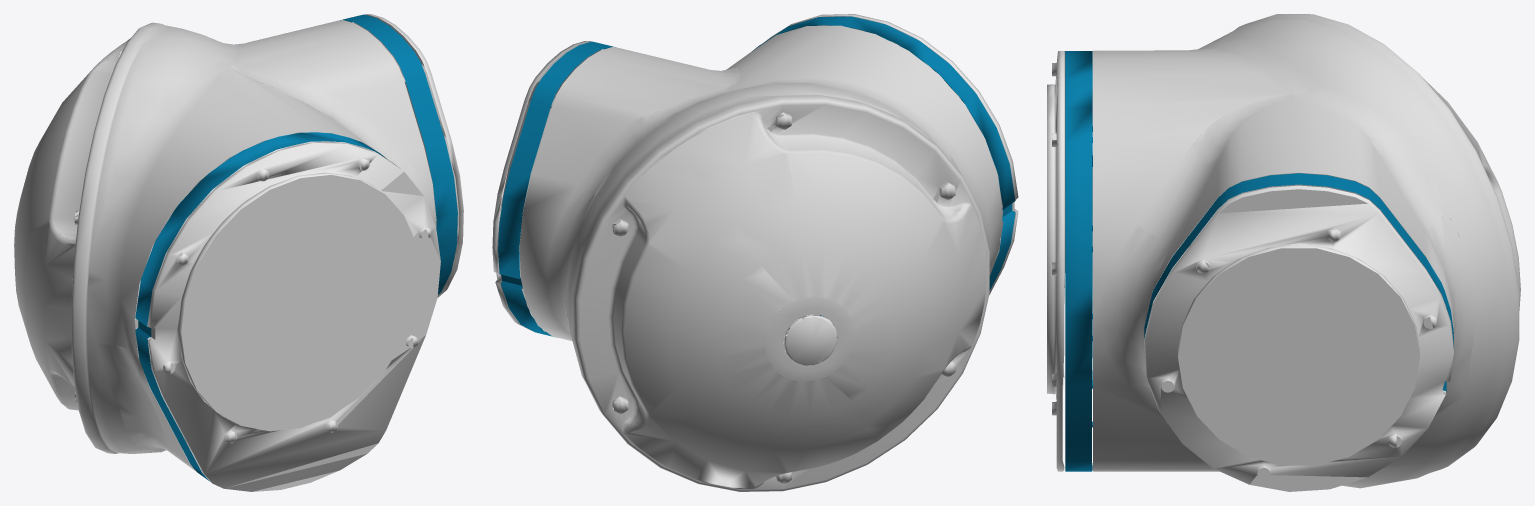
3 renders of one model, left to right at view 1: azimuth 30°, elevation 25°; view 2: azimuth 150°, elevation 25°; view 3: azimuth 270°, elevation 25°, orthographic. The views are drawn at different scales.
Parts seen in each view (by area): view 1: f_1-06vxhc10-b1_lk3; view 2: f_1-06vxhc10-b1_lk3; view 3: f_1-06vxhc10-b1_lk3.
Part boxes in pixels (x1,y1,x2,y2): f_1-06vxhc10-b1_lk3: (14, 14, 463, 491); f_1-06vxhc10-b1_lk3: (492, 14, 1018, 491); f_1-06vxhc10-b1_lk3: (1047, 14, 1520, 491).
Bounding box in the file's own units: 0.2067 × 0.1956 × 0.201.
